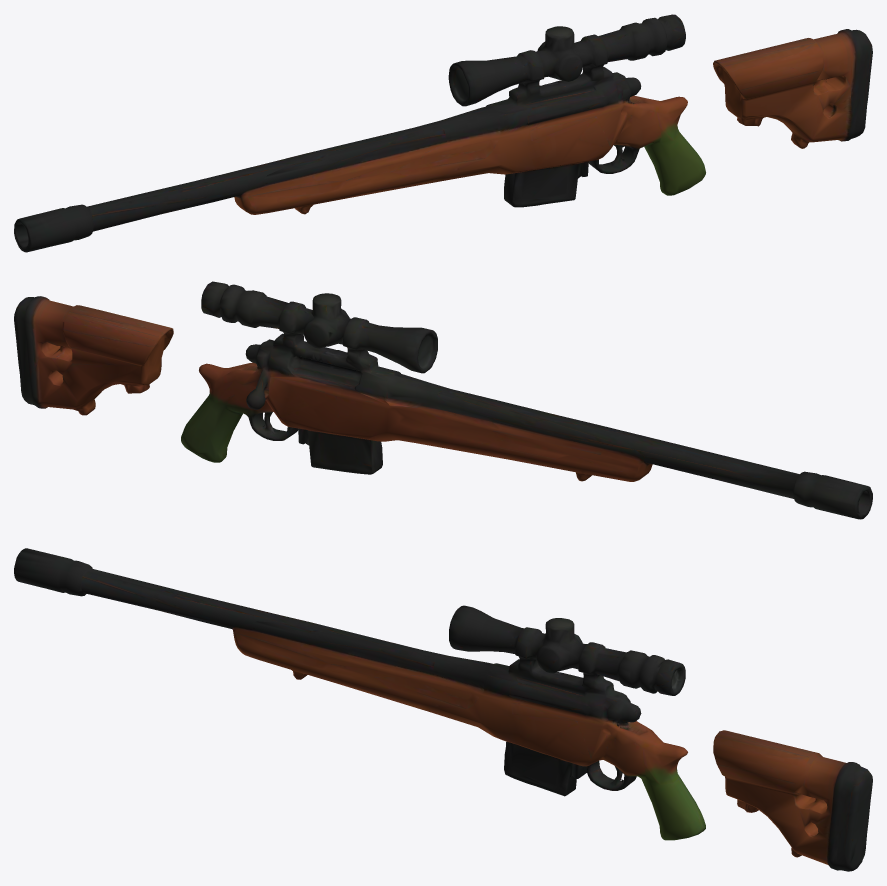
The model's file is wpn_sniper.glb.
3 renders of one model, top to bottom at view 1: azimuth 30°, elevation 25°; view 2: azimuth 150°, elevation 25°; view 3: azimuth 330°, elevation 25°, orthographic.
Bounding box in the file's own units: 1.91 × 0.4076 × 0.1257.
Materials: 1 (1 with a texture image).
